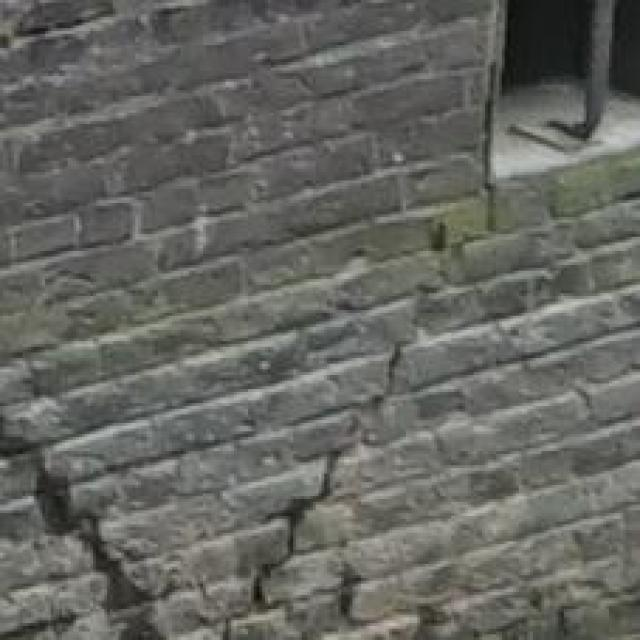Crack: (0, 307, 480, 640)
